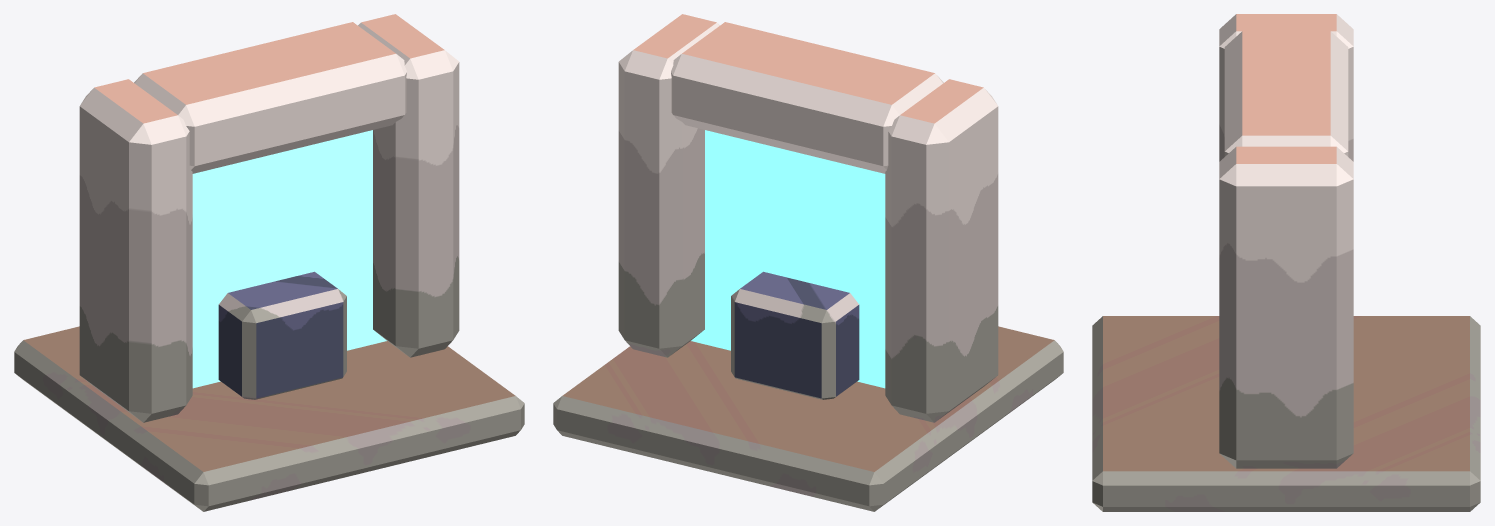
Rendered from R4X_StructuralScanner_LOD1.glb.
3 views of the same model, side by side, from view 1: azimuth 30°, elevation 25°; view 2: azimuth 150°, elevation 25°; view 3: azimuth 270°, elevation 25° (orthographic).
Visible parts, largest first — view 1: R4X_StructuralScanner_LOD1; view 2: R4X_StructuralScanner_LOD1; view 3: R4X_StructuralScanner_LOD1.
Boxes of the visible parts, <box> form: R4X_StructuralScanner_LOD1: <box>14,14,524,511</box>; R4X_StructuralScanner_LOD1: <box>553,14,1063,511</box>; R4X_StructuralScanner_LOD1: <box>1092,14,1480,511</box>.
Bounding box in the file's own units: 0.52 × 0.5181 × 0.52.
Materials: 4 (3 with a texture image).
